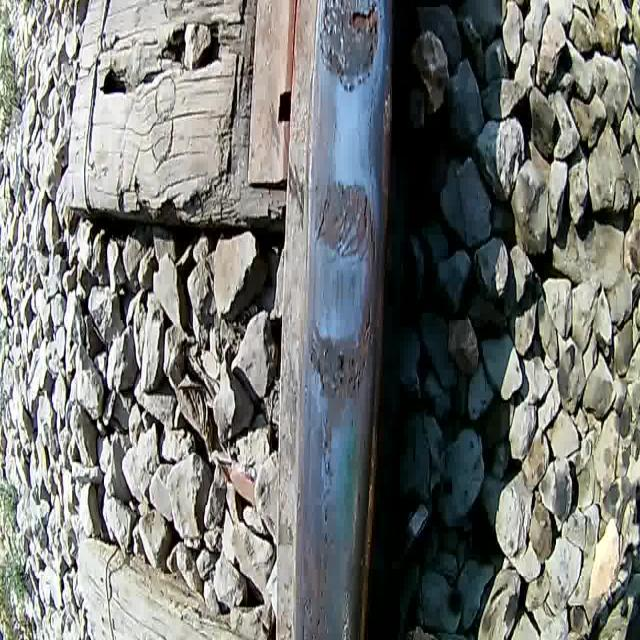Cracks: (335, 178, 380, 274), (312, 173, 332, 247), (361, 297, 379, 347)
Spallings: (318, 0, 380, 89), (306, 334, 370, 401)
Squats: (302, 294, 380, 457), (310, 165, 382, 278), (314, 0, 384, 99)
